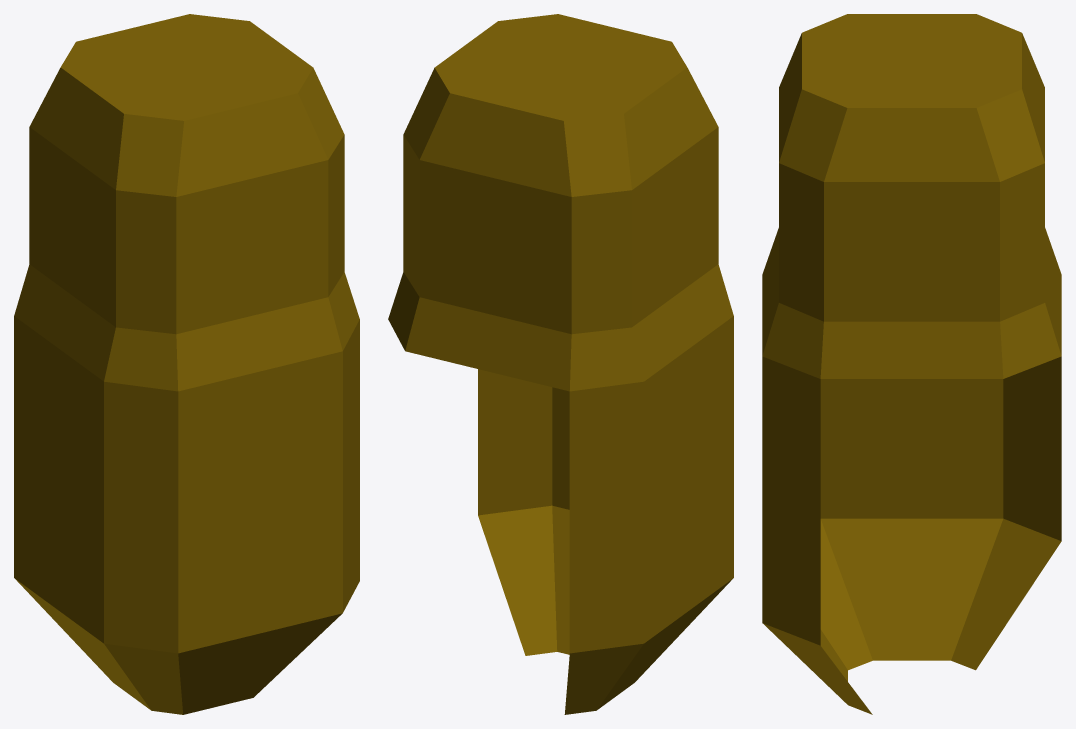
Rendered from mesh_BuildingA_TrimCornerCapBalcony_v2.fbx.
The picture shows the model from 3 angles, left to right: view 1: azimuth 30°, elevation 25°; view 2: azimuth 150°, elevation 25°; view 3: azimuth 270°, elevation 25°; orthographic projection.
Parts seen in each view (by area): view 1: mesh_BuildingA_TrimCornerCapBalcony; view 2: mesh_BuildingA_TrimCornerCapBalcony; view 3: mesh_BuildingA_TrimCornerCapBalcony.
Part boxes in pixels (x1,y1,x2,y2): mesh_BuildingA_TrimCornerCapBalcony: (14,14,359,714); mesh_BuildingA_TrimCornerCapBalcony: (388,14,733,714); mesh_BuildingA_TrimCornerCapBalcony: (762,14,1061,714).
Bounding box in the file's own units: 52.21 × 120 × 51.96.
